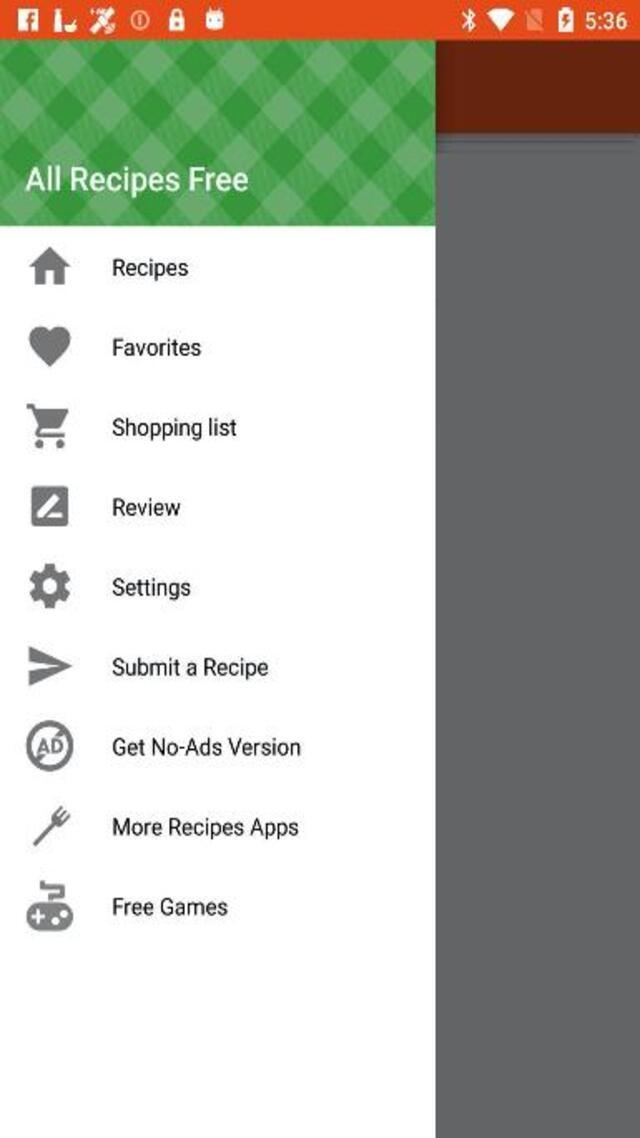Icon: (26, 719, 74, 771), (26, 880, 74, 930), (26, 404, 70, 450), (29, 562, 71, 608), (30, 644, 73, 686), (29, 326, 71, 367), (31, 486, 69, 528), (29, 246, 71, 284), (33, 804, 70, 846)
Text: (25, 164, 248, 198), (113, 817, 299, 840), (112, 737, 300, 757), (111, 657, 268, 680), (112, 417, 237, 440), (114, 897, 228, 917), (112, 577, 190, 600), (111, 257, 188, 280), (114, 336, 202, 356), (112, 497, 180, 517)
